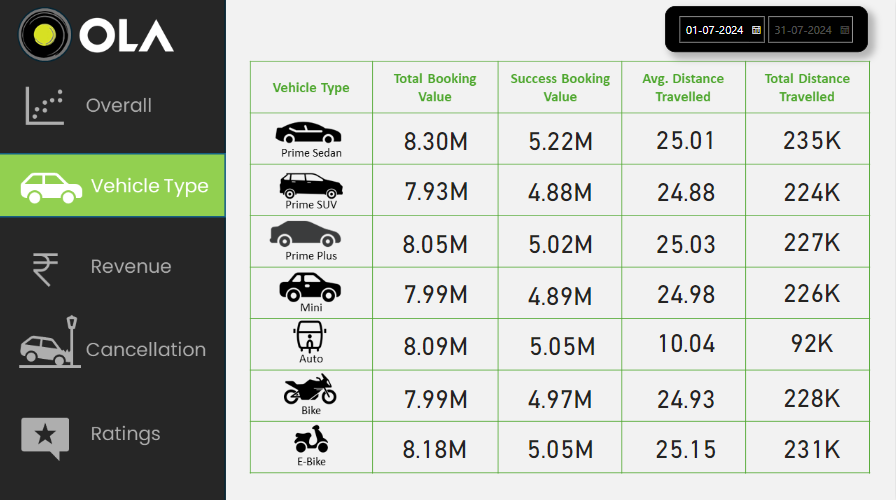

Layout of this report page (visuals, bound fields, positions):
{"tool":"powerbi","page":{"name":"Vehicle Type","canvas":[1280,720],"ordinal":1},"visuals":[{"type":"actionButton","box":[0,109.6,325.1,110.8],"z":0},{"type":"actionButton","box":[0,310.6,325.1,109.6],"z":1000},{"type":"actionButton","box":[0,431,325.1,113.2],"z":2000},{"type":"actionButton","box":[0,552.6,325.1,125.2],"z":3000},{"type":"card","fields":{"Values":["Sum(July.Booking_Value)"]},"box":[534.6,164.9,179.4,69.8],"z":4000},{"type":"card","fields":{"Values":["Sum(July.Booking_Value)"]},"box":[534.5,233.5,180,77.4],"z":5000},{"type":"card","fields":{"Values":["Sum(July.Booking_Value)"]},"box":[532.7,311.1,180.6,71.5],"z":6000},{"type":"card","fields":{"Values":["Sum(July.Booking_Value)"]},"box":[534.5,382.6,178.6,70.3],"z":7000},{"type":"card","fields":{"Values":["Sum(July.Booking_Value)"]},"box":[534.5,452.9,178.6,80.2],"z":8000},{"type":"card","fields":{"Values":["Sum(July.Booking_Value)"]},"box":[533.1,533.1,181.5,70.3],"z":9000},{"type":"card","fields":{"Values":["Sum(July.Booking_Value)"]},"box":[533.1,603.4,178.6,74.5],"z":10000},{"type":"card","fields":{"Values":["Sum(July.Booking_Value)"]},"box":[711.7,164.6,180,70.3],"z":11000},{"type":"card","fields":{"Values":["Avg(July.Ride_Distance)"]},"box":[891.9,162.7,179.8,71.3],"z":12000},{"type":"card","fields":{"Values":["Sum(July.Booking_Value)"]},"box":[712.1,236.9,179.8,71.3],"z":13000},{"type":"card","fields":{"Values":["Sum(July.Booking_Value)"]},"box":[712.1,311.1,179.8,71.3],"z":14000},{"type":"card","fields":{"Values":["Sum(July.Booking_Value)"]},"box":[712.1,385.3,179.8,71.3],"z":15000},{"type":"card","fields":{"Values":["Sum(July.Booking_Value)"]},"box":[714.9,456.6,179.8,71.3],"z":16000},{"type":"card","fields":{"Values":["Sum(July.Booking_Value)"]},"box":[712.1,532.3,179.8,71.3],"z":17000},{"type":"card","fields":{"Values":["Sum(July.Booking_Value)"]},"box":[712.1,603.6,179.8,71.3],"z":18000},{"type":"card","fields":{"Values":["Avg(July.Ride_Distance)"]},"box":[891.9,236.9,179.8,71.3],"z":19000},{"type":"card","fields":{"Values":["Avg(July.Ride_Distance)"]},"box":[891.9,311.1,179.8,71.3],"z":20000},{"type":"card","fields":{"Values":["Avg(July.Ride_Distance)"]},"box":[891.9,382.4,179.8,71.3],"z":21000},{"type":"card","fields":{"Values":["Avg(July.Ride_Distance)"]},"box":[891.9,452.4,179.8,71.3],"z":22000},{"type":"card","fields":{"Values":["Avg(July.Ride_Distance)"]},"box":[891.9,532.3,179.8,71.3],"z":23000},{"type":"card","fields":{"Values":["Avg(July.Ride_Distance)"]},"box":[891.9,603.6,179.8,71.3],"z":24000},{"type":"card","fields":{"Values":["Sum(July.Ride_Distance)"]},"box":[1071.1,163.3,179.1,72],"z":25000},{"type":"card","fields":{"Values":["Sum(July.Ride_Distance)"]},"box":[1071.1,237,179.1,72],"z":26000},{"type":"card","fields":{"Values":["Sum(July.Ride_Distance)"]},"box":[1071.1,309,179.1,72],"z":27000},{"type":"card","fields":{"Values":["Sum(July.Ride_Distance)"]},"box":[1071.1,381,179.1,72],"z":28000},{"type":"card","fields":{"Values":["Sum(July.Ride_Distance)"]},"box":[1071.1,453,179.1,72],"z":29000},{"type":"card","fields":{"Values":["Sum(July.Ride_Distance)"]},"box":[1071.1,604,179.1,72],"z":30000},{"type":"card","fields":{"Values":["Sum(July.Ride_Distance)"]},"box":[1071.1,532,179.1,72],"z":31000},{"type":"slicer","title":"Date","fields":{"Values":["July.Date"]},"box":[951.8,10,289.7,65.6],"z":32000}]}

Visuals, with their boxes on the page's 1280x720 design canvas (x1, y1, x2, y2). These are canvas units, not pixel positions in the 896x500 screenshot, which may show the page scaled, cropped or inside an application window:
actionButton: 0,110,325,220
actionButton: 0,311,325,420
actionButton: 0,431,325,544
actionButton: 0,553,325,678
card - Sum(July.Booking_Value): 535,165,714,235
card - Sum(July.Booking_Value): 534,234,714,311
card - Sum(July.Booking_Value): 533,311,713,383
card - Sum(July.Booking_Value): 534,383,713,453
card - Sum(July.Booking_Value): 534,453,713,533
card - Sum(July.Booking_Value): 533,533,715,603
card - Sum(July.Booking_Value): 533,603,712,678
card - Sum(July.Booking_Value): 712,165,892,235
card - Avg(July.Ride_Distance): 892,163,1072,234
card - Sum(July.Booking_Value): 712,237,892,308
card - Sum(July.Booking_Value): 712,311,892,382
card - Sum(July.Booking_Value): 712,385,892,457
card - Sum(July.Booking_Value): 715,457,895,528
card - Sum(July.Booking_Value): 712,532,892,604
card - Sum(July.Booking_Value): 712,604,892,675
card - Avg(July.Ride_Distance): 892,237,1072,308
card - Avg(July.Ride_Distance): 892,311,1072,382
card - Avg(July.Ride_Distance): 892,382,1072,454
card - Avg(July.Ride_Distance): 892,452,1072,524
card - Avg(July.Ride_Distance): 892,532,1072,604
card - Avg(July.Ride_Distance): 892,604,1072,675
card - Sum(July.Ride_Distance): 1071,163,1250,235
card - Sum(July.Ride_Distance): 1071,237,1250,309
card - Sum(July.Ride_Distance): 1071,309,1250,381
card - Sum(July.Ride_Distance): 1071,381,1250,453
card - Sum(July.Ride_Distance): 1071,453,1250,525
card - Sum(July.Ride_Distance): 1071,604,1250,676
card - Sum(July.Ride_Distance): 1071,532,1250,604
"Date" slicer: 952,10,1242,76
